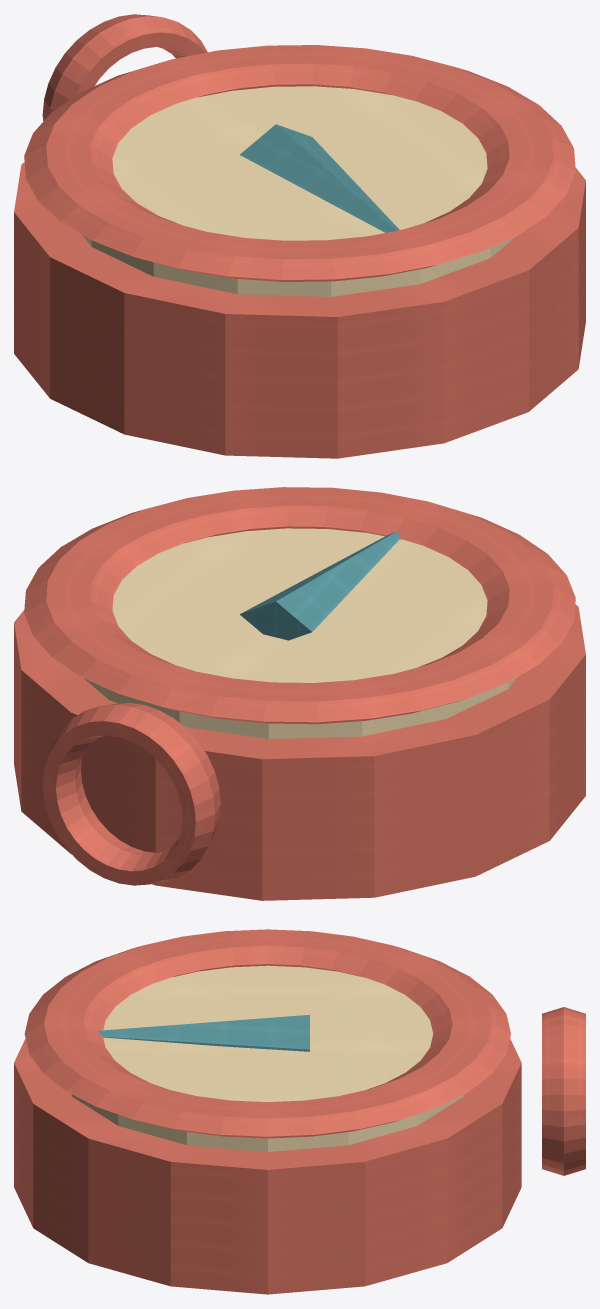
The model's file is atlas100-s077-a05.glb.
3 renders of one model, top to bottom at view 1: azimuth 30°, elevation 25°; view 2: azimuth 150°, elevation 25°; view 3: azimuth 270°, elevation 25°, orthographic. The views are drawn at different scales.
Visible parts, largest first — view 1: atlas100-s077-a05:part-000, atlas100-s077-a05:part-003, atlas100-s077-a05:part-001, atlas100-s077-a05:part-004, atlas100-s077-a05:part-002; view 2: atlas100-s077-a05:part-000, atlas100-s077-a05:part-003, atlas100-s077-a05:part-001, atlas100-s077-a05:part-004, atlas100-s077-a05:part-002; view 3: atlas100-s077-a05:part-000, atlas100-s077-a05:part-003, atlas100-s077-a05:part-001, atlas100-s077-a05:part-004, atlas100-s077-a05:part-002.
Boxes of the visible parts, <box> form: atlas100-s077-a05:part-000: <box>14,162,585,458</box>; atlas100-s077-a05:part-003: <box>24,45,575,281</box>; atlas100-s077-a05:part-001: <box>82,86,515,296</box>; atlas100-s077-a05:part-004: <box>42,14,207,120</box>; atlas100-s077-a05:part-002: <box>240,124,399,232</box>; atlas100-s077-a05:part-000: <box>14,604,585,900</box>; atlas100-s077-a05:part-003: <box>24,487,575,724</box>; atlas100-s077-a05:part-001: <box>84,528,517,738</box>; atlas100-s077-a05:part-004: <box>42,703,220,885</box>; atlas100-s077-a05:part-002: <box>240,531,400,640</box>; atlas100-s077-a05:part-000: <box>14,1038,521,1294</box>; atlas100-s077-a05:part-003: <box>24,929,510,1138</box>; atlas100-s077-a05:part-001: <box>71,965,464,1151</box>; atlas100-s077-a05:part-004: <box>542,1007,585,1175</box>; atlas100-s077-a05:part-002: <box>97,1014,309,1051</box>.
Size of the model in its own units: 0.5242 by 0.1966 by 0.5905.
3 materials, 3 textured.
